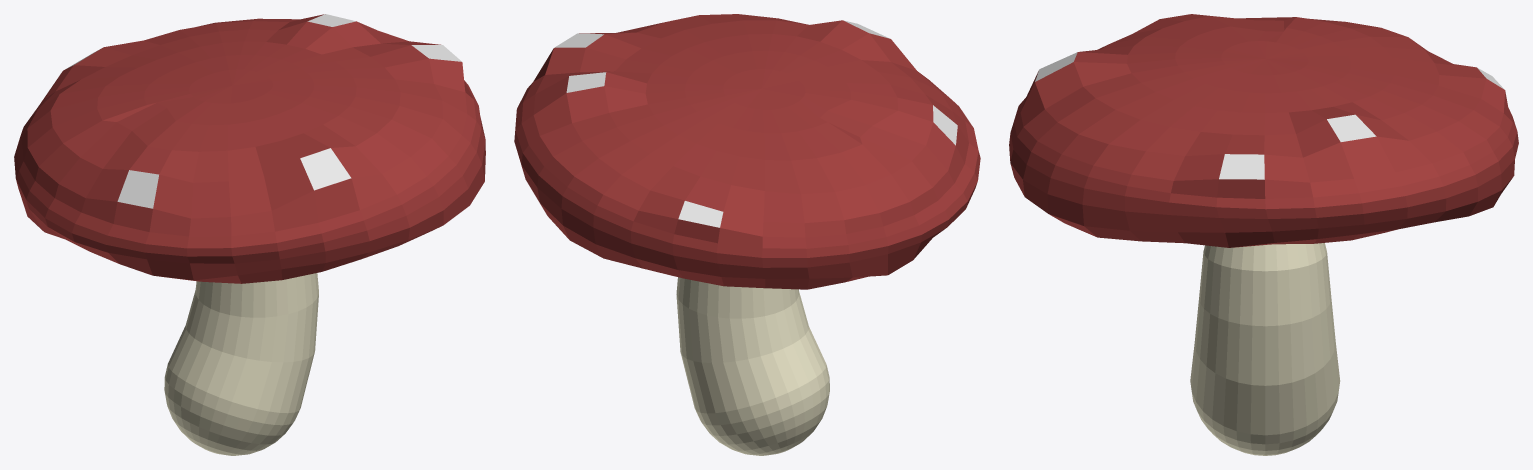
File: GRIB.fbx
3 renders of one model, left to right at view 1: azimuth 30°, elevation 25°; view 2: azimuth 150°, elevation 25°; view 3: azimuth 270°, elevation 25°, orthographic. The views are drawn at different scales.
Visible parts, largest first — view 1: Sphere.001, Sphere; view 2: Sphere.001, Sphere; view 3: Sphere.001, Sphere.
Part boxes in pixels (x1,y1,x2,y2): Sphere.001: [14, 14, 485, 283]; Sphere: [164, 273, 318, 455]; Sphere.001: [514, 14, 980, 289]; Sphere: [676, 277, 829, 455]; Sphere.001: [1009, 14, 1518, 247]; Sphere: [1190, 243, 1340, 455].
Size of the model in its own units: 1197 by 1045 by 1219.
